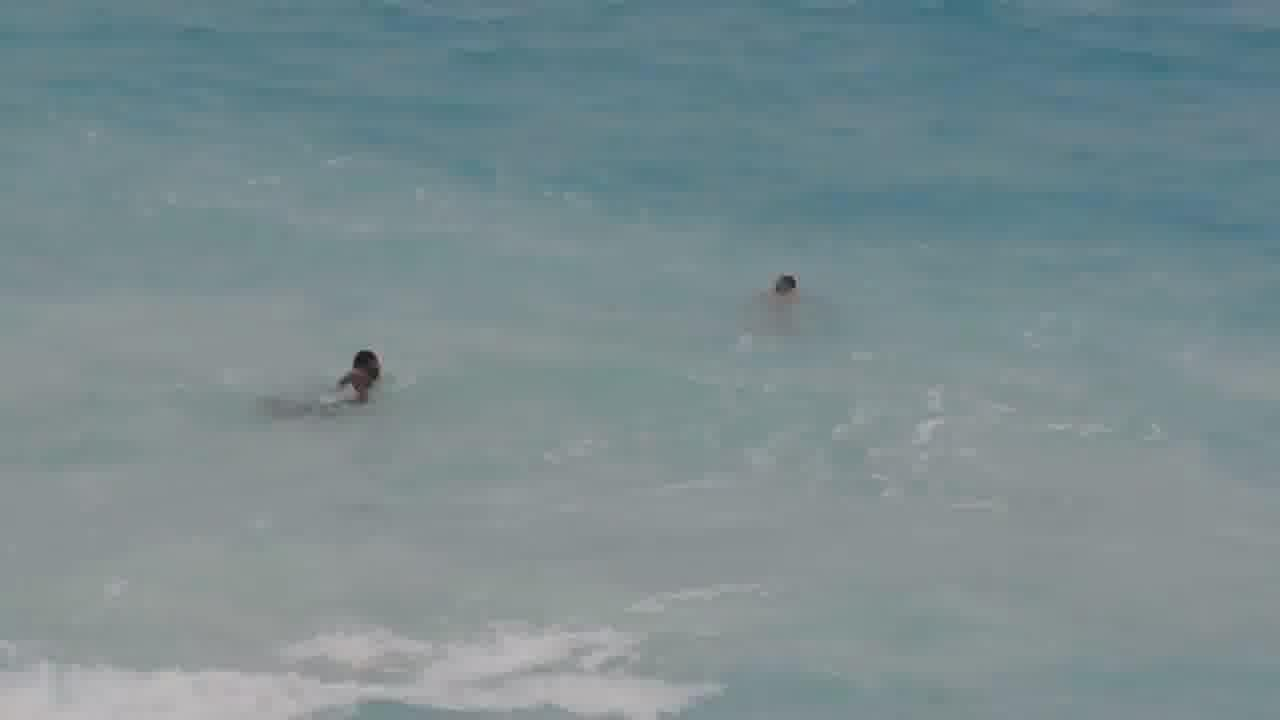human: (334, 341, 397, 405), (770, 269, 807, 305)
